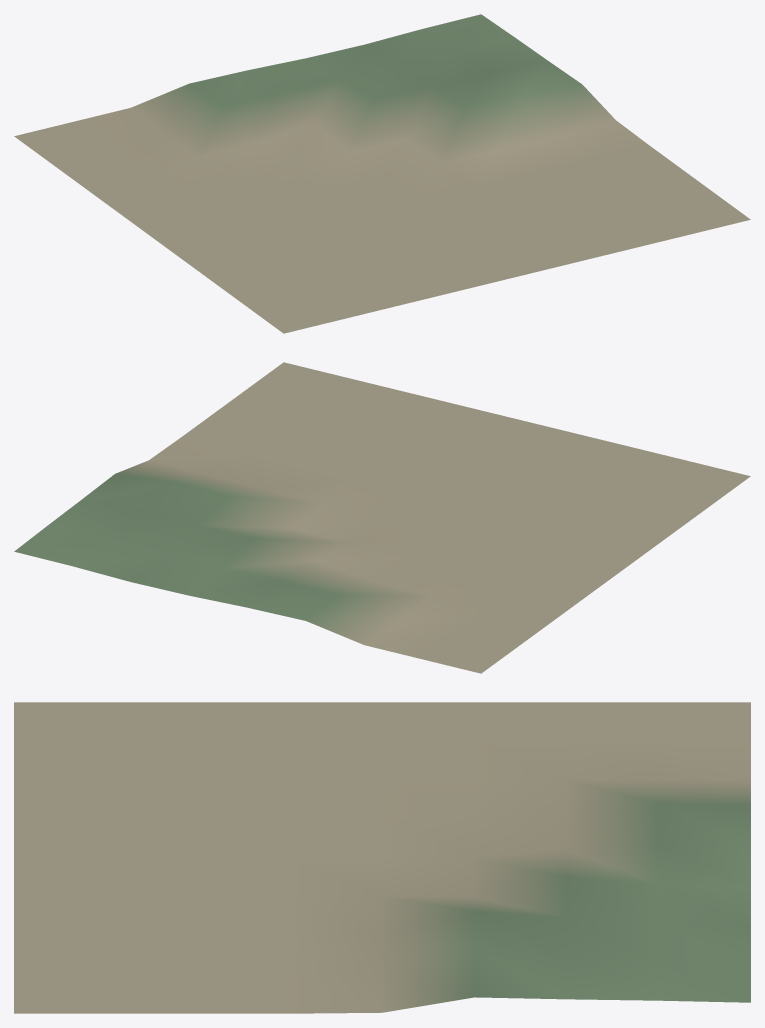
The picture shows the model from 3 angles, top to bottom: view 1: azimuth 30°, elevation 25°; view 2: azimuth 150°, elevation 25°; view 3: azimuth 270°, elevation 25°; orthographic projection. The views are drawn at different scales.
Visible parts, largest first — view 1: Lo; view 2: Lo; view 3: Lo.
Part boxes in pixels (left/top/right/bottom): Lo: left=14, top=14, right=750, bottom=333; Lo: left=14, top=362, right=750, bottom=673; Lo: left=14, top=702, right=750, bottom=1013.
Size of the model in its own units: 256 by 9.4 by 256.
